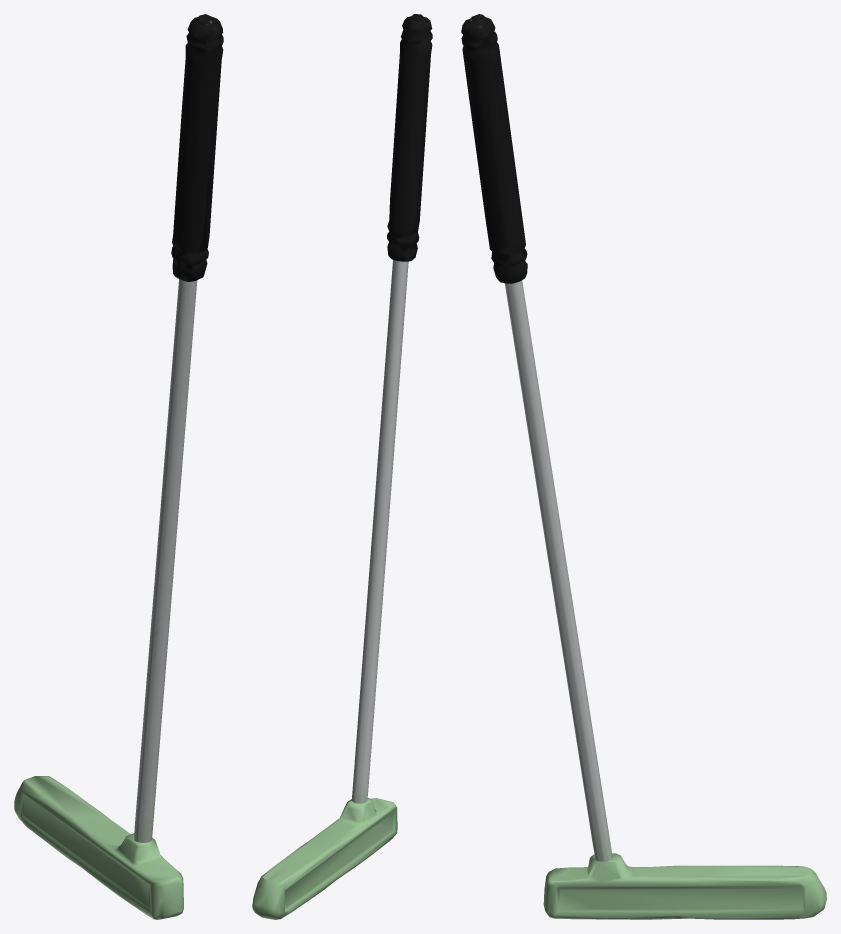
File: putter_VR.fbx
The picture shows the model from 3 angles, left to right: view 1: azimuth 30°, elevation 25°; view 2: azimuth 150°, elevation 25°; view 3: azimuth 270°, elevation 25°; orthographic projection. The views are drawn at different scales.
Parts seen in each view (by area): view 1: putter_vr; view 2: putter_vr; view 3: putter_vr.
Boxes of the visible parts, left/top/right/bottom form: putter_vr: left=14, top=14, right=223, bottom=919; putter_vr: left=252, top=14, right=432, bottom=919; putter_vr: left=461, top=14, right=826, bottom=919.
Size of the model in its own units: 0.2849 by 7.6 by 2.81.
Materials: 1 (1 with a texture image).
